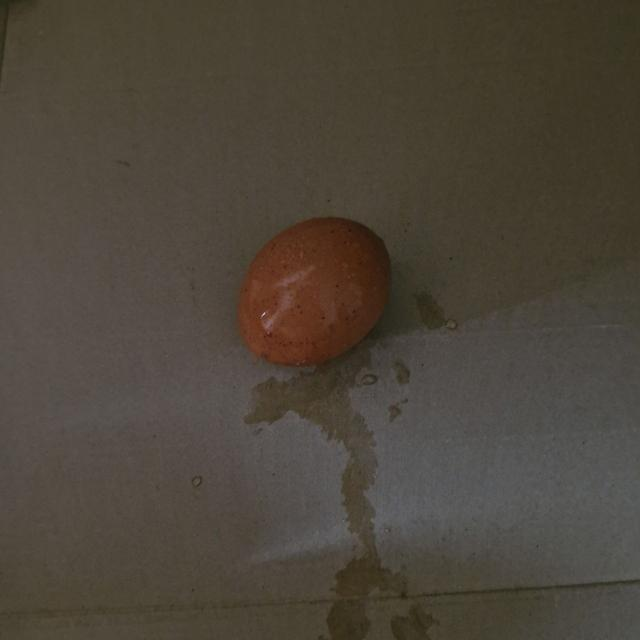food_waste: (228, 197, 400, 376)
